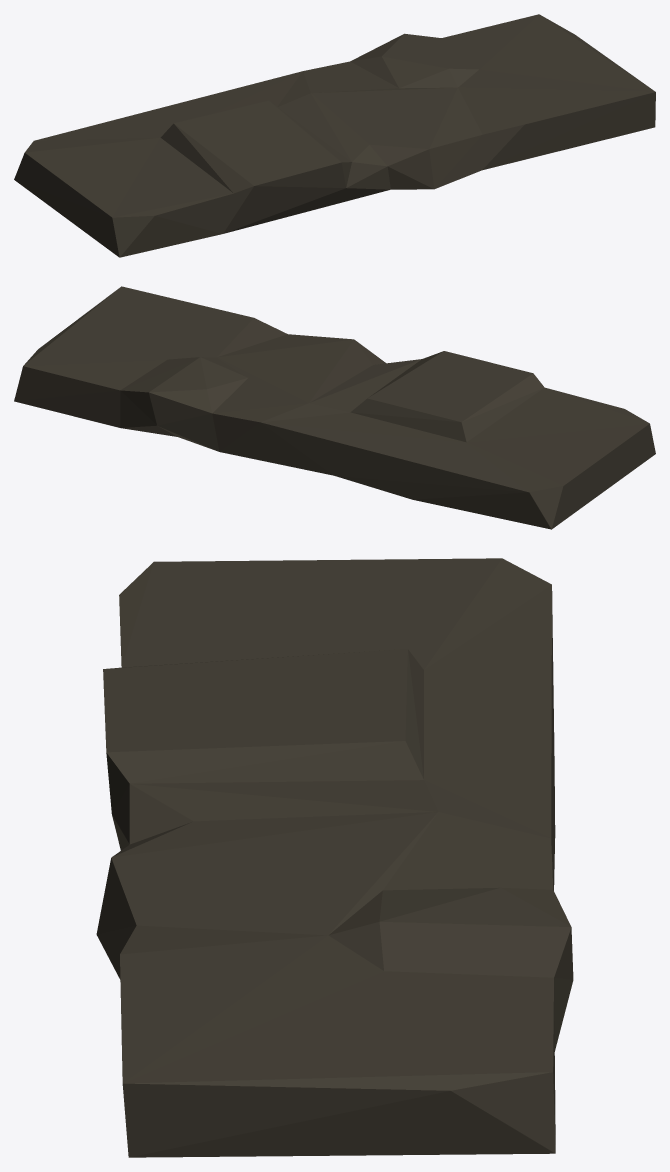
The model's file is Stairs_1.fbx.
3 renders of one model, top to bottom at view 1: azimuth 30°, elevation 25°; view 2: azimuth 150°, elevation 25°; view 3: azimuth 270°, elevation 25°, orthographic. The views are drawn at different scales.
Parts seen in each view (by area): view 1: Group34452; view 2: Group34452; view 3: Group34452.
Boxes of the visible parts, x1,y1,x2,y2 form: Group34452: (14, 14, 655, 257); Group34452: (14, 286, 655, 529); Group34452: (96, 558, 573, 1157).
Size of the model in its own units: 6.45 by 0.6175 by 2.48.
